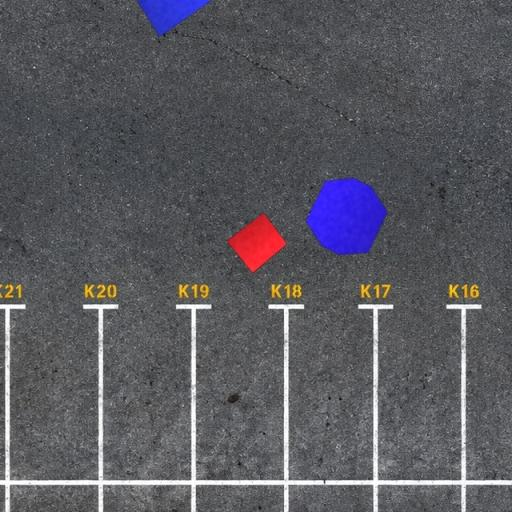BLUE_SQUARE: (120, 0, 226, 38)
RED_SQUARE: (226, 212, 288, 274)
